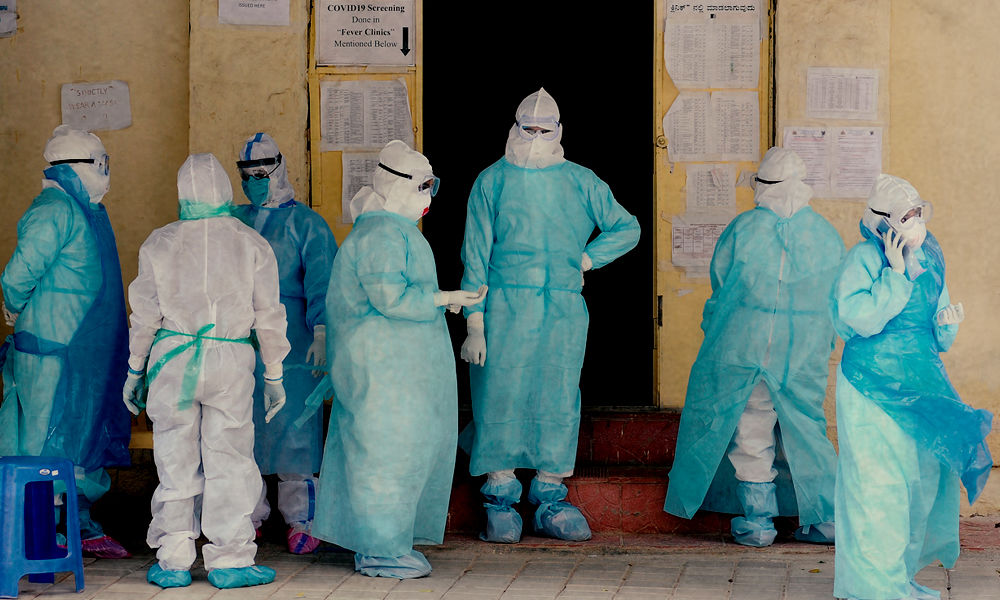Coverall: (127, 149, 287, 556), (461, 84, 624, 473), (837, 178, 985, 600), (694, 149, 839, 506), (328, 141, 447, 549), (1, 127, 131, 460), (234, 200, 334, 554)
Gloves: (461, 315, 493, 366), (306, 326, 331, 384), (258, 378, 287, 423), (881, 229, 909, 275), (435, 289, 491, 311), (122, 373, 147, 416)
Goggles: (93, 151, 114, 180)
Mask: (241, 177, 275, 207)
